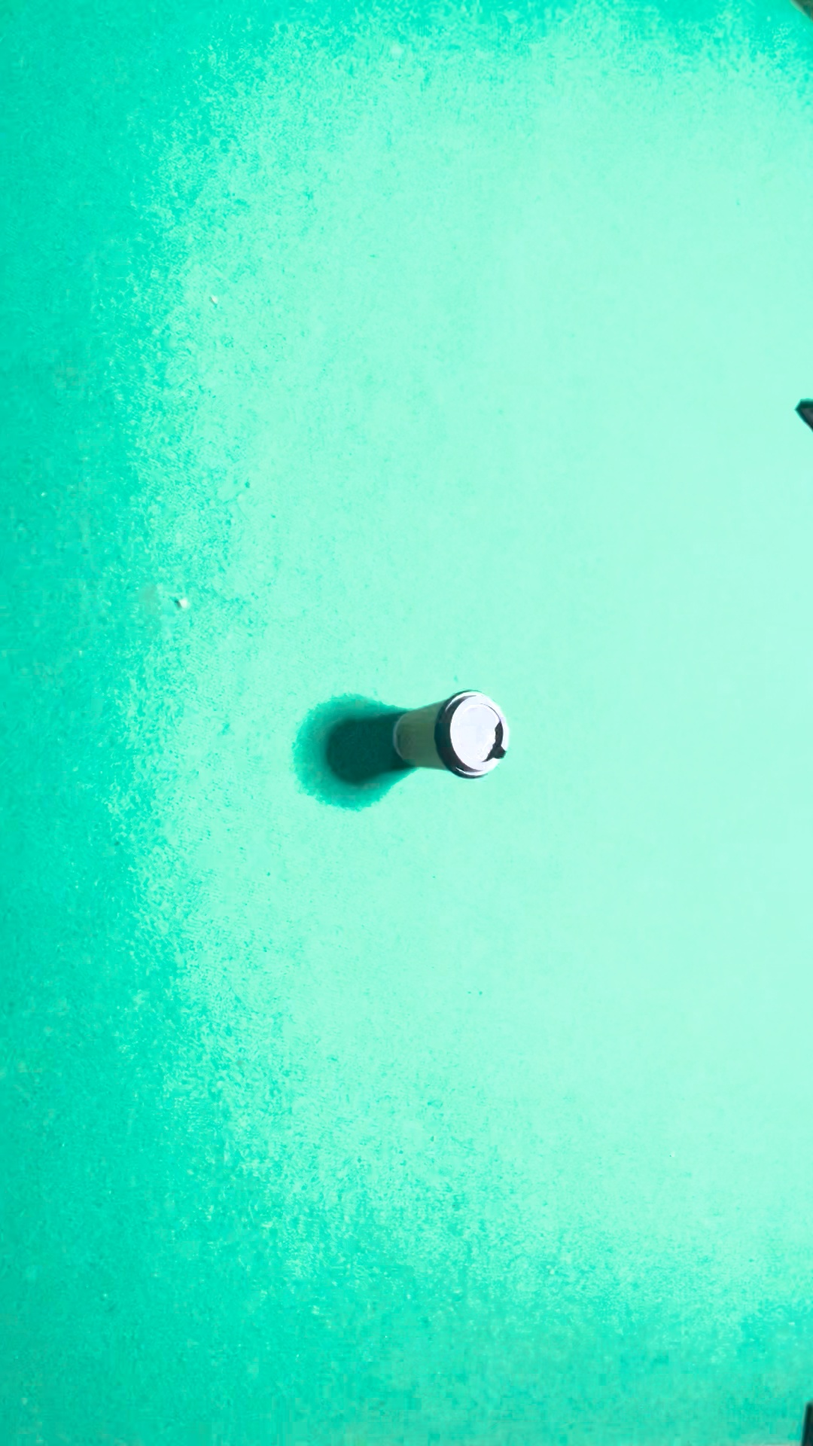cup: (428, 408, 514, 837)
